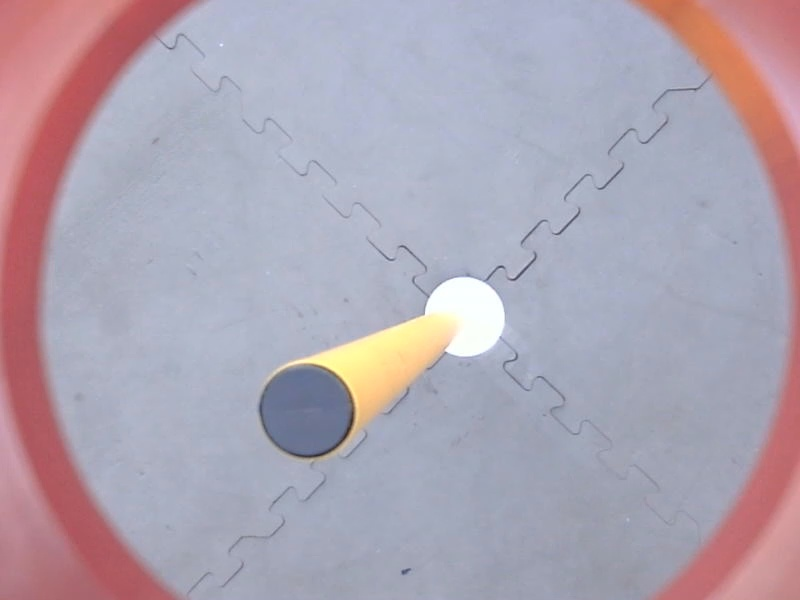tip: (250, 356, 362, 468)
